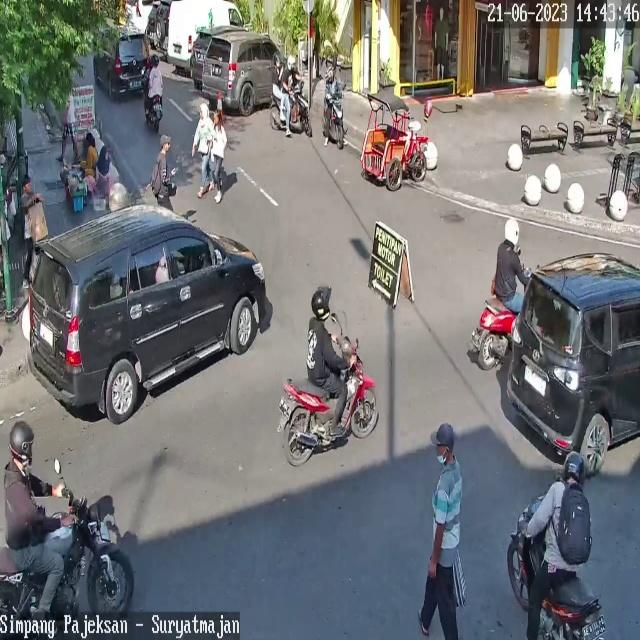bus: (0, 485, 135, 640), (509, 492, 606, 640), (277, 336, 379, 466), (469, 297, 520, 371), (271, 81, 314, 138), (321, 90, 345, 149), (148, 90, 164, 131)
motorcycle: (28, 202, 266, 426), (505, 252, 640, 476), (201, 30, 284, 116), (166, 0, 244, 66), (93, 32, 152, 102), (123, 0, 153, 38), (191, 27, 211, 83)
